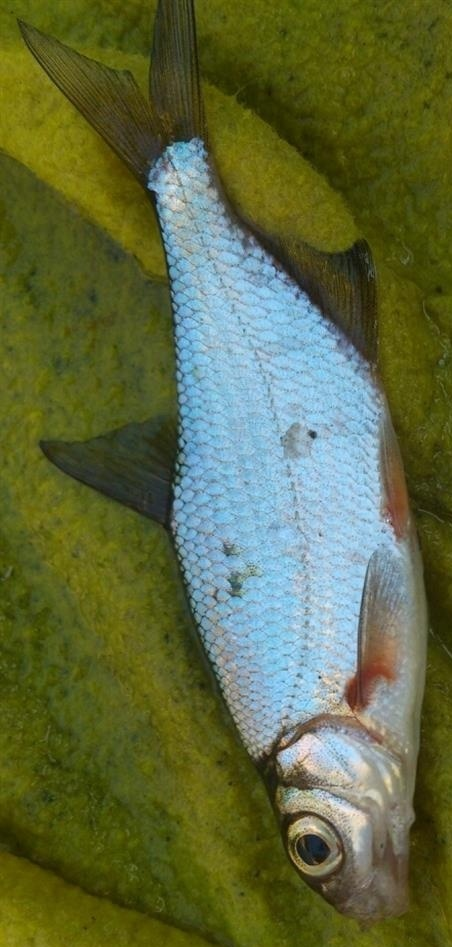Rutilus rutilus: (15, 1, 432, 927)
